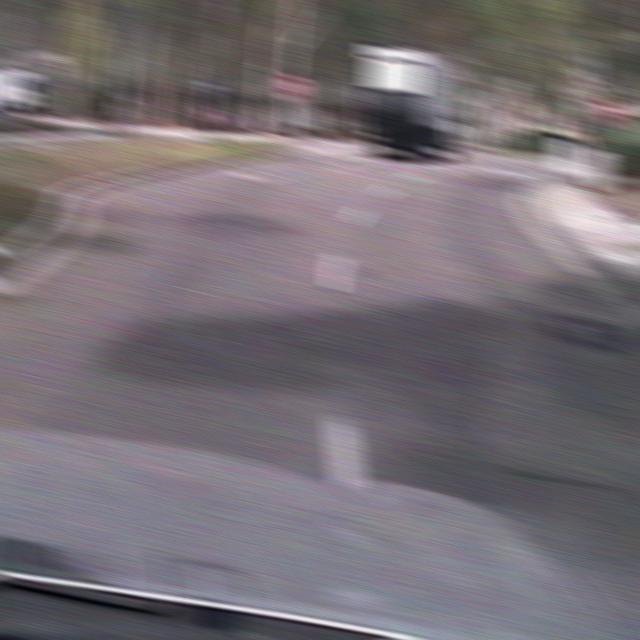stop: (278, 73, 306, 99), (596, 98, 622, 126)
